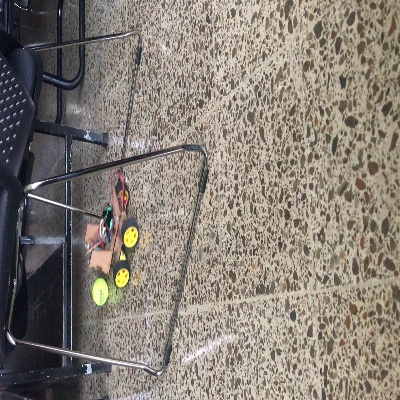Ball: (91, 278, 108, 305)
Robot: (86, 180, 139, 287)
